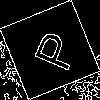P: (25, 25, 80, 74)
